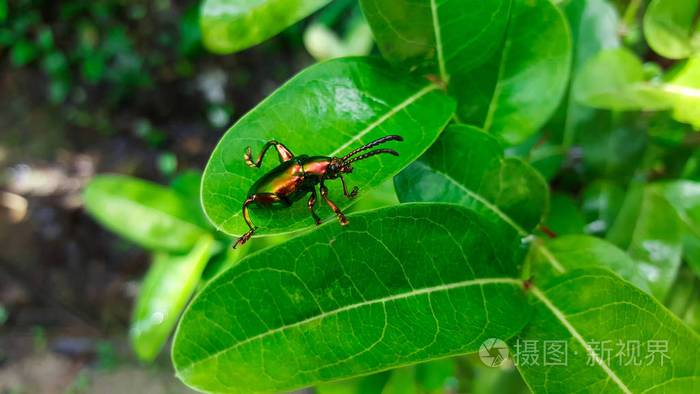Curculionidae: (231, 135, 404, 250)
